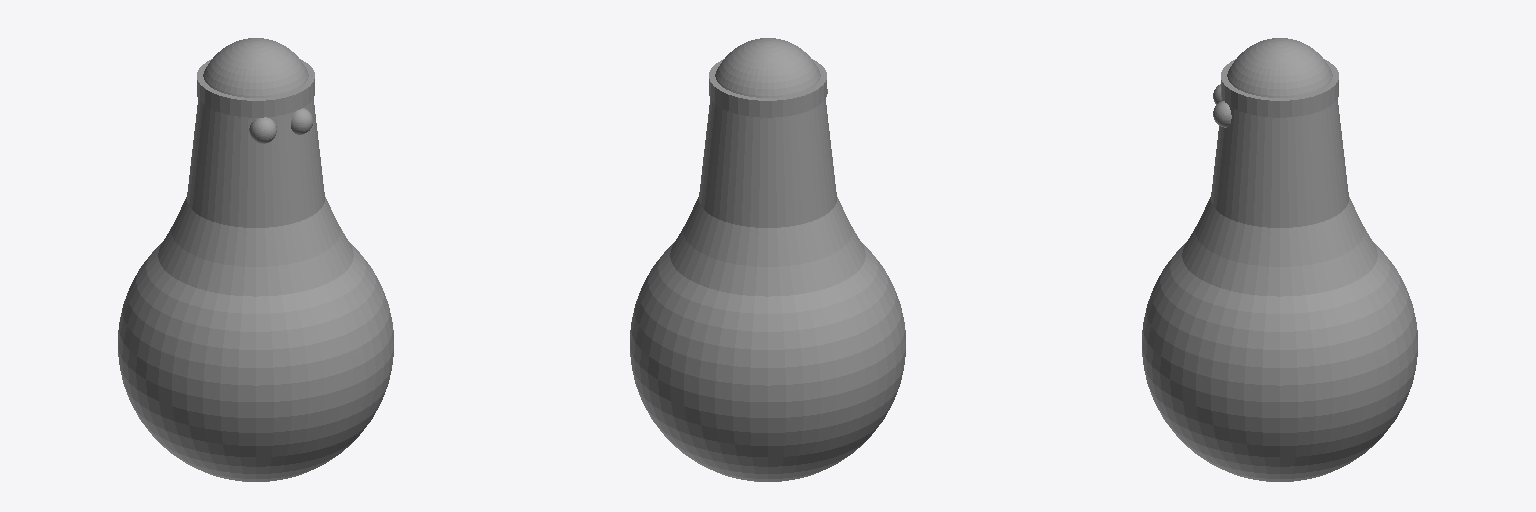
The model's file is circle-stick.obj.
3 renders of one model, left to right at view 1: azimuth 30°, elevation 25°; view 2: azimuth 150°, elevation 25°; view 3: azimuth 270°, elevation 25°, orthographic.
Parts seen in each view (by area): view 1: Sphere_Sphere.001, Cylinder_Cylinder.001, Sphere.001_Sphere.002; view 2: Sphere_Sphere.001, Cylinder_Cylinder.001; view 3: Sphere_Sphere.001, Cylinder_Cylinder.001.
Boxes of the visible parts, box(x1,y1,x2,y2) form: Sphere_Sphere.001: box(118, 38, 393, 481); Cylinder_Cylinder.001: box(197, 59, 314, 117); Sphere.001_Sphere.002: box(249, 117, 276, 143); Sphere_Sphere.001: box(630, 38, 905, 481); Cylinder_Cylinder.001: box(709, 59, 826, 117); Sphere_Sphere.001: box(1142, 38, 1417, 481); Cylinder_Cylinder.001: box(1221, 59, 1338, 117).
Bounding box in the file's own units: 2 × 3.4 × 2.